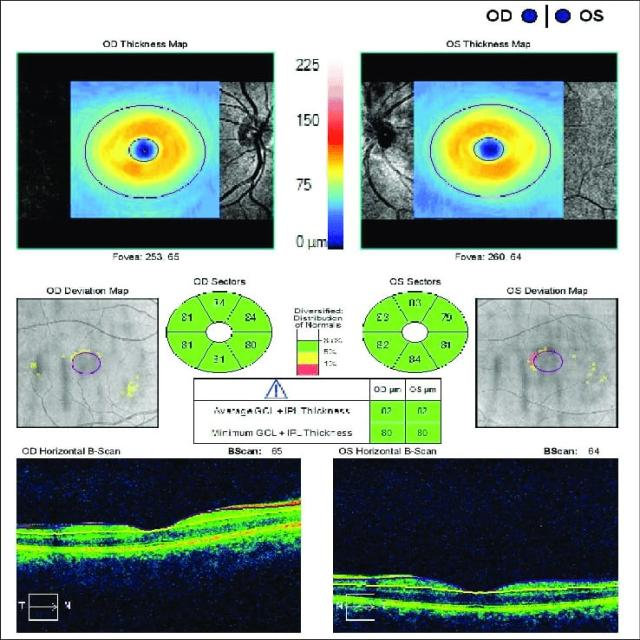average gcl and ipl thickness: (202, 400, 434, 424)
average gcl and ipl thickness-od: (376, 401, 402, 421)
average gcl and ipl thickness-os: (414, 401, 434, 421)
minimum gcl and ipl thickness: (204, 424, 433, 444)
minimum gcl and ipl thickness-od: (377, 424, 399, 440)
minimum gcl and ipl thickness-os: (412, 426, 434, 444)
